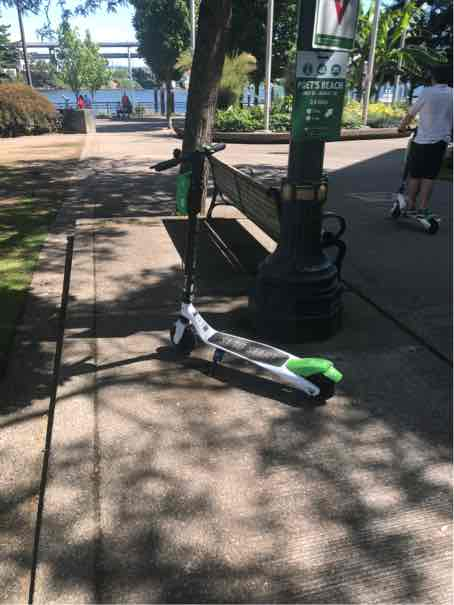scooter: (130, 141, 351, 412)
